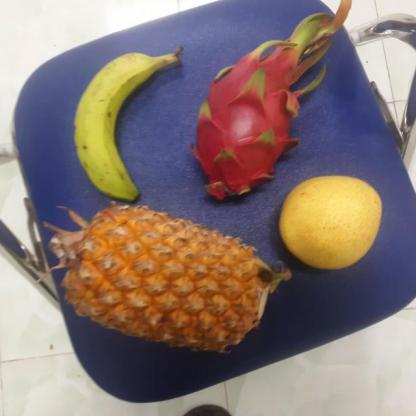banana: (69, 53, 172, 198)
pear: (279, 171, 383, 274)
pineapple: (50, 202, 274, 350)
pitaya: (182, 51, 316, 200)
